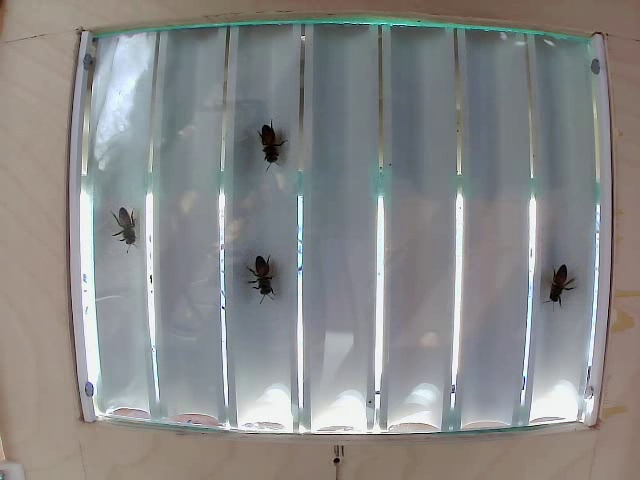bee: (110, 202, 153, 241), (255, 107, 289, 153), (539, 261, 569, 303), (251, 268, 276, 302)
